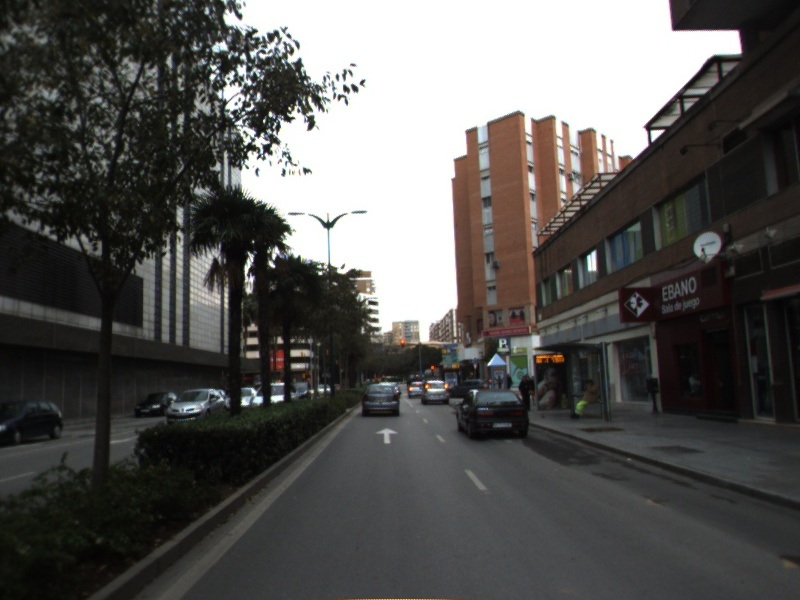STRAIGHT: (374, 426, 401, 446)
